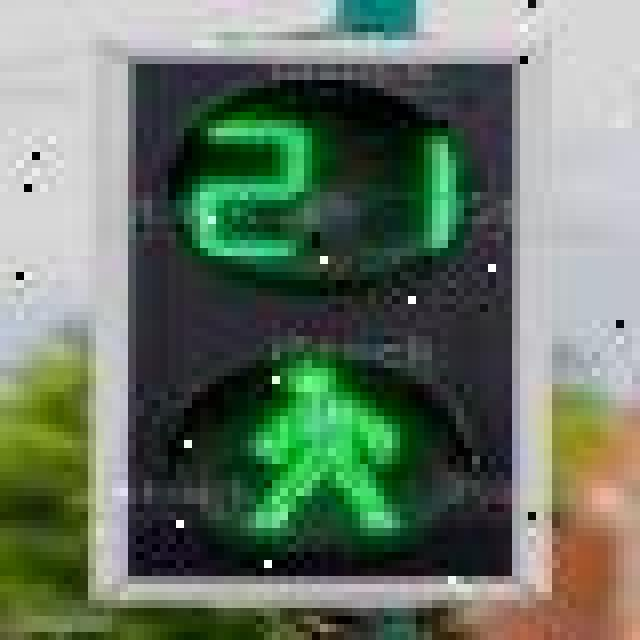redlight: (83, 51, 546, 579)
